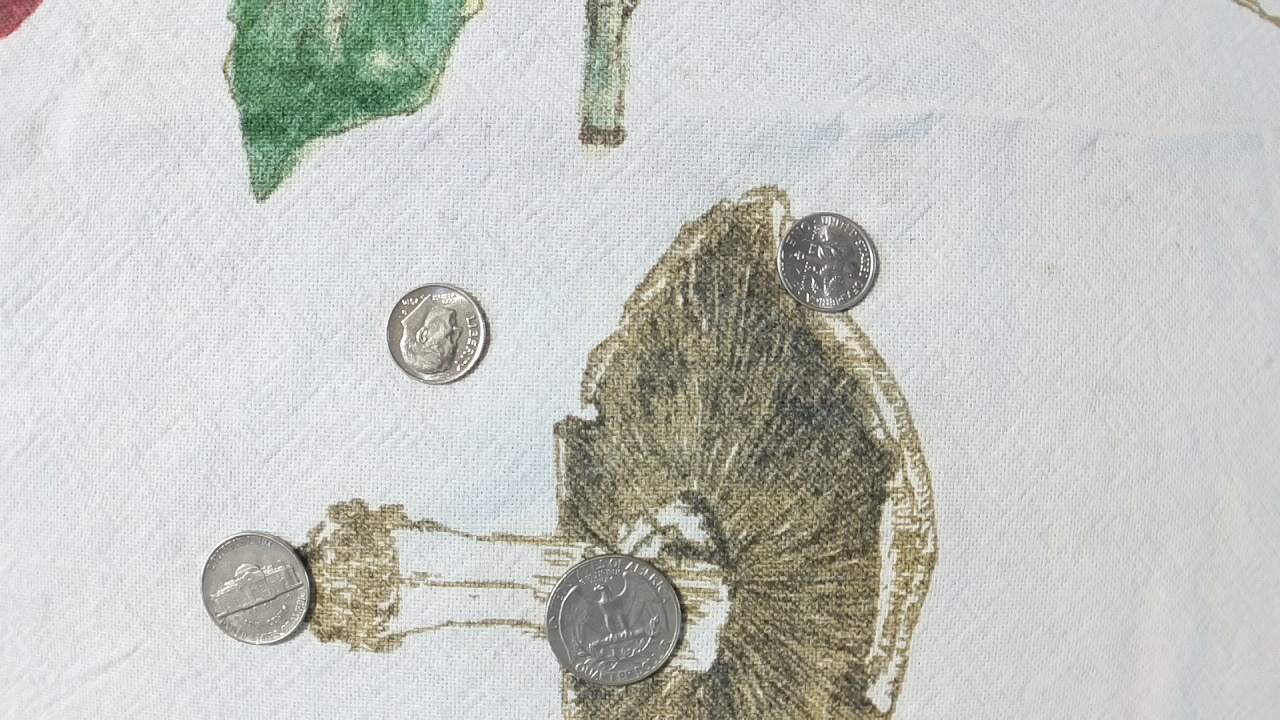dime: (380, 280, 492, 388), (773, 210, 883, 314)
nickel: (196, 526, 314, 650)
quarter: (543, 554, 687, 690)
